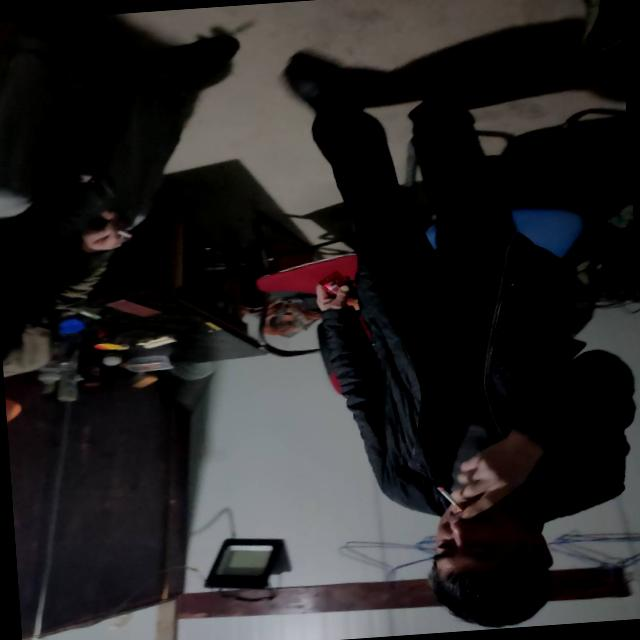cigarette: (425, 474, 469, 516)
